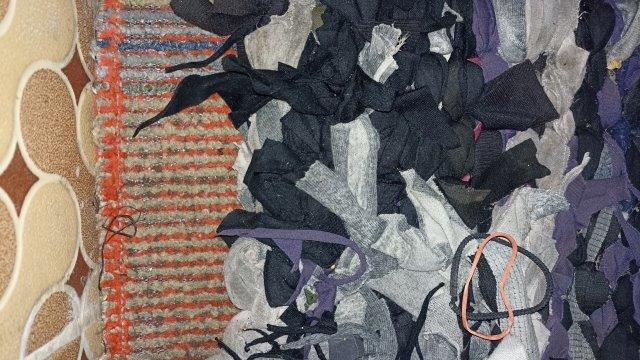karet: (450, 231, 553, 341)
